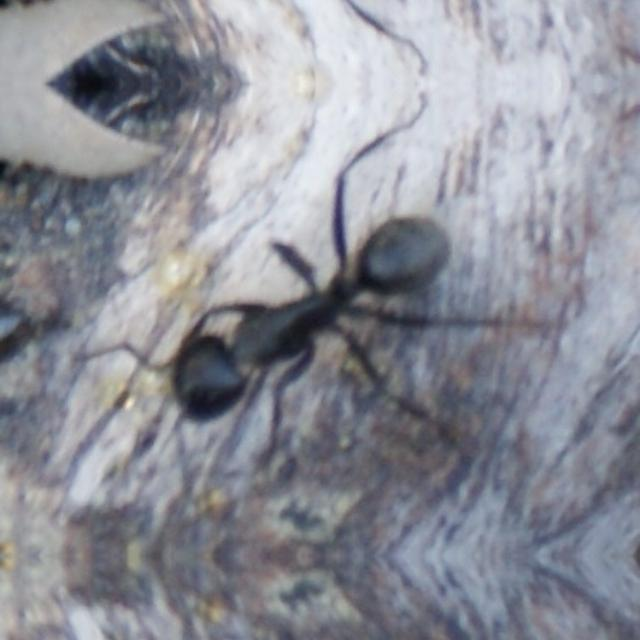Camponotus: (134, 173, 462, 475)
